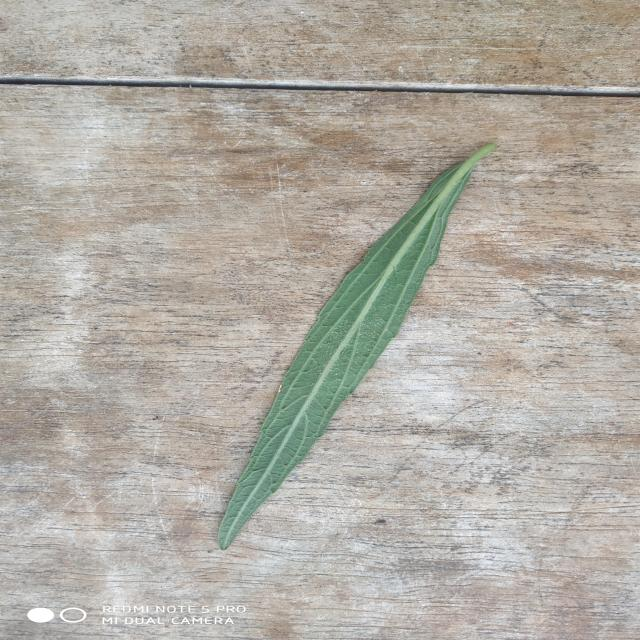thambe: (218, 144, 496, 549)
